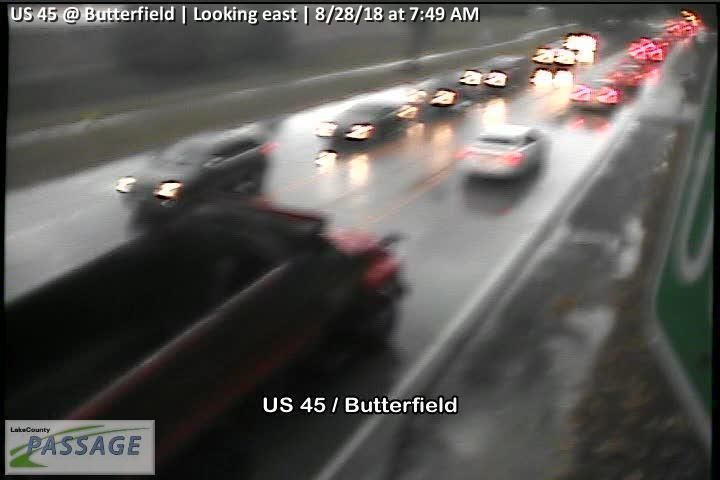SUV: (461, 52, 530, 94)
Sedan: (112, 126, 277, 221), (455, 124, 552, 181), (319, 103, 405, 147), (570, 78, 623, 115), (416, 79, 463, 108)
Truck: (4, 191, 412, 480)
